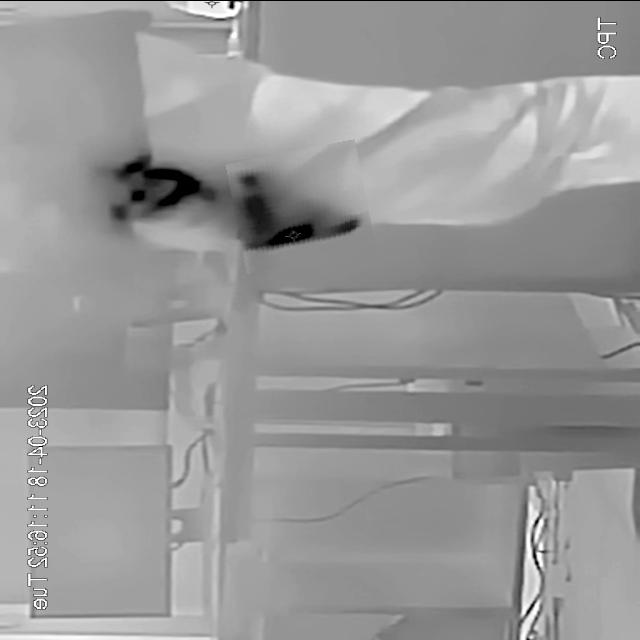Weapon: (230, 144, 372, 268)
